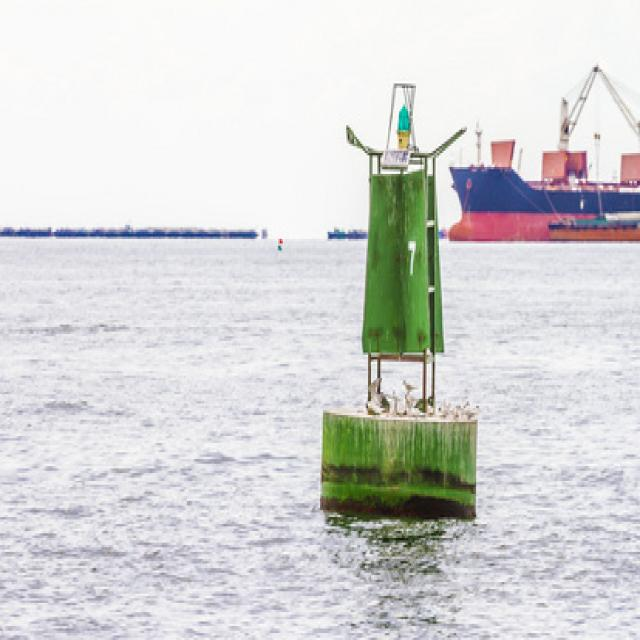buoy: (317, 74, 485, 517)
